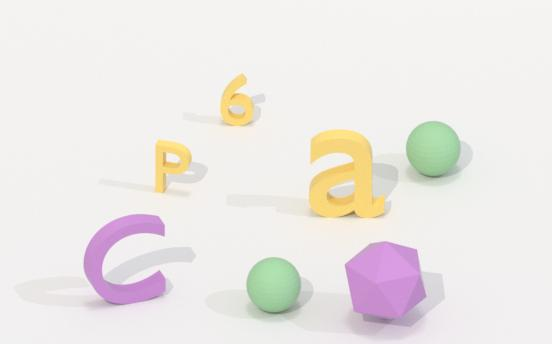6: (216, 69, 258, 129)
a: (308, 124, 388, 225)
c: (80, 212, 173, 309)
cau: (404, 117, 465, 181), (244, 253, 303, 317)
dagiac: (343, 236, 429, 323)
p: (149, 135, 197, 198)
